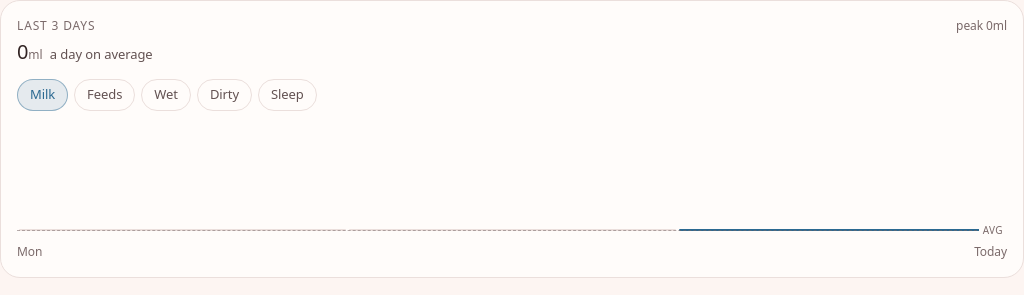
tapping a day shows that day's total instead of the average
Click the button "Sleep".
click(287, 95)  # box x1=258 y1=79 x2=317 y2=111
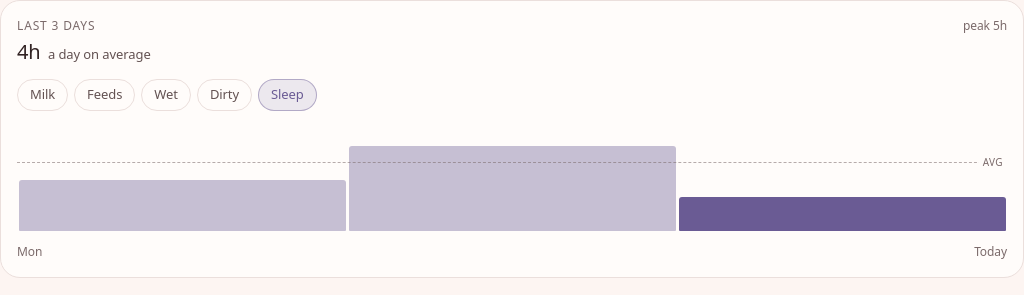
expect the element with class "trend-average" shows "a day on average": met, box x1=45 y1=45 x2=151 y2=63
Click the button named "Oct 13".
click(512, 182)  # box x1=347 y1=133 x2=677 y2=231
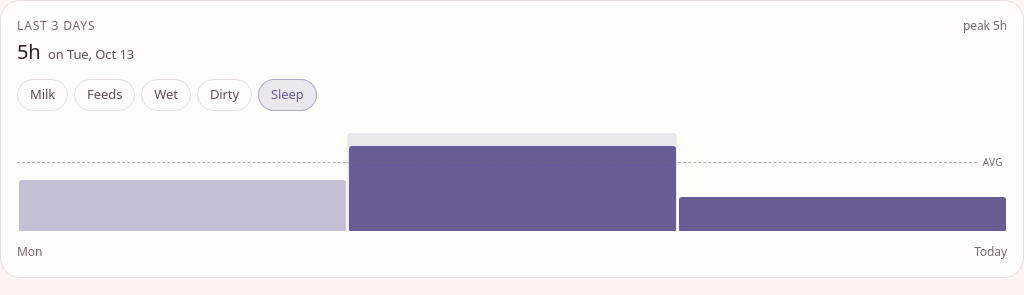
expect the element with class "trend-average" shows "5h": met, box x1=17 y1=38 x2=41 y2=65
expect the element with class "trend-average" shows "Oct 13": met, box x1=45 y1=45 x2=134 y2=63
expect the text with class "trend-average" no longer shows "average": met
